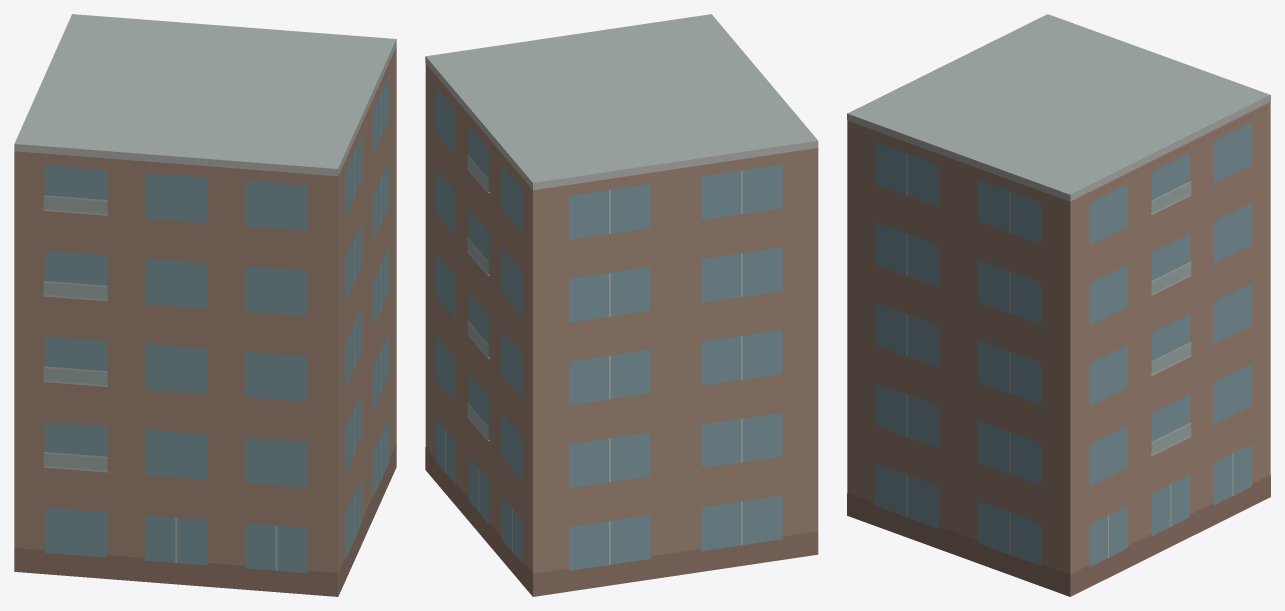
Rendered from survey-upis-32623391.glb.
3 renders of one model, left to right at view 1: azimuth 30°, elevation 25°; view 2: azimuth 150°, elevation 25°; view 3: azimuth 270°, elevation 25°, orthographic. The views are drawn at different scales.
Visible parts, largest first — view 1: survey-upis-32623391.tmp; view 2: survey-upis-32623391.tmp; view 3: survey-upis-32623391.tmp.
Part boxes in pixels (x1,y1,x2,y2): survey-upis-32623391.tmp: (14, 14, 396, 596); survey-upis-32623391.tmp: (425, 14, 818, 596); survey-upis-32623391.tmp: (847, 14, 1270, 596).
Bounding box in the file's own units: 13.7 × 14.2 × 13.57.
